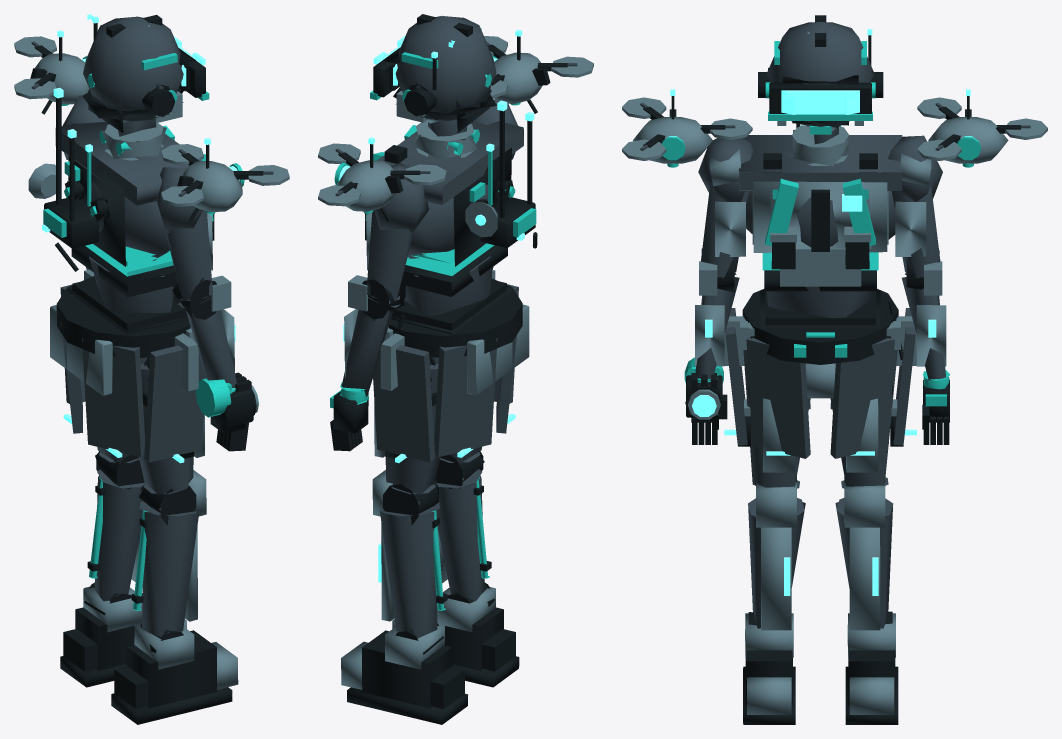
Rendered from humanoide_invocador.glb.
The picture shows the model from 3 angles, left to right: view 1: azimuth 30°, elevation 25°; view 2: azimuth 150°, elevation 25°; view 3: azimuth 270°, elevation 25°; orthographic projection.
Parts seen in each view (by area): view 1: mov_pierna_der, invocador_tunica, mov_torso, mov_pierna_izq, mov_brazo_der, invocador_visor, mov_dron_2, invocador_antenas, mov_dron_1, mov_cabeza, invocador_guante, pelvis (+1 smaller); view 2: mov_pierna_izq, invocador_tunica, mov_torso, mov_pierna_der, mov_brazo_izq, invocador_visor, mov_dron_1, invocador_antenas, mov_dron_2, mov_cabeza, pelvis, mov_brazo_der; view 3: mov_torso, invocador_tunica, mov_pierna_der, mov_pierna_izq, mov_brazo_izq, mov_brazo_der, invocador_visor, mov_dron_2, mov_dron_1, pelvis, invocador_guante, mov_cabeza.
Part boxes in pixels (bbox=[...]): mov_pierna_der: bbox=[111, 357, 238, 724]; invocador_tunica: bbox=[50, 269, 205, 463]; mov_torso: bbox=[55, 121, 214, 330]; mov_pierna_izq: bbox=[60, 447, 186, 687]; mov_brazo_der: bbox=[156, 167, 248, 451]; invocador_visor: bbox=[83, 16, 209, 121]; mov_dron_2: bbox=[161, 138, 289, 221]; invocador_antenas: bbox=[28, 87, 98, 271]; mov_dron_1: bbox=[14, 30, 89, 114]; mov_cabeza: bbox=[82, 14, 195, 142]; invocador_guante: bbox=[195, 372, 258, 427]; pelvis: bbox=[67, 288, 194, 381]; mov_pierna_izq: bbox=[341, 356, 468, 724]; invocador_tunica: bbox=[373, 270, 529, 462]; mov_torso: bbox=[364, 120, 523, 330]; mov_pierna_der: bbox=[392, 446, 519, 687]; mov_brazo_izq: bbox=[330, 163, 428, 451]; invocador_visor: bbox=[370, 16, 496, 120]; mov_dron_1: bbox=[318, 137, 446, 221]; invocador_antenas: bbox=[465, 100, 537, 248]; mov_dron_2: bbox=[484, 29, 593, 113]; mov_cabeza: bbox=[383, 14, 496, 139]; pelvis: bbox=[384, 288, 512, 387]; mov_brazo_der: bbox=[474, 99, 517, 268]; mov_torso: bbox=[739, 125, 902, 325]; invocador_tunica: bbox=[724, 289, 916, 458]; mov_pierna_der: bbox=[738, 350, 810, 724]; mov_pierna_izq: bbox=[830, 350, 903, 724]; mov_brazo_izq: bbox=[882, 135, 950, 444]; mov_brazo_der: bbox=[691, 138, 755, 444]; invocador_visor: bbox=[758, 22, 883, 122]; mov_dron_2: bbox=[622, 89, 752, 167]; mov_dron_1: bbox=[917, 89, 1047, 167]; pelvis: bbox=[740, 290, 900, 398]; invocador_guante: bbox=[684, 357, 727, 419]; mov_cabeza: bbox=[768, 15, 873, 147].
Bounding box in the file's own units: 0.4369 × 1.8 × 1.03.
